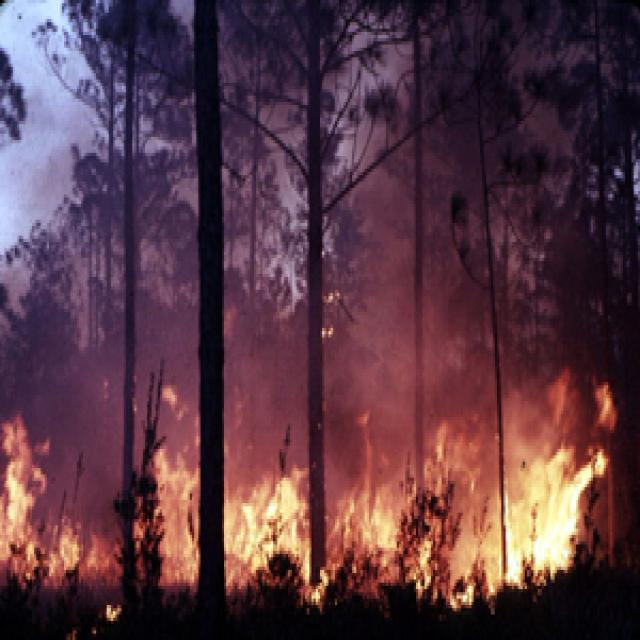Fire: (473, 446, 609, 606), (326, 412, 404, 592), (406, 426, 474, 614), (228, 458, 309, 590), (0, 415, 51, 586), (151, 446, 198, 590), (542, 362, 620, 435), (52, 514, 125, 584), (300, 565, 330, 610), (160, 386, 183, 420), (105, 598, 123, 624)
Smoke: (324, 0, 516, 407), (133, 180, 204, 448), (224, 258, 308, 458), (51, 300, 125, 512)
